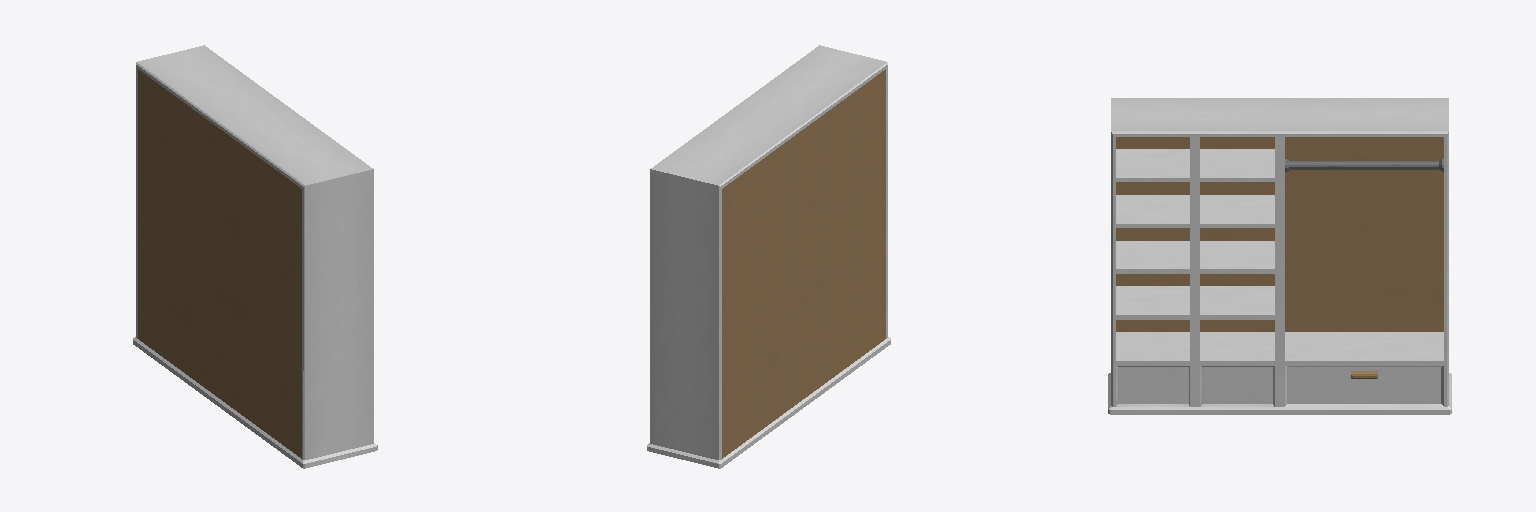
3 renders of one model, left to right at view 1: azimuth 30°, elevation 25°; view 2: azimuth 150°, elevation 25°; view 3: azimuth 270°, elevation 25°, orthographic.
Visible parts, largest first — view 1: Cube.013, Cube.011; view 2: Cube.013, Cube.011; view 3: Cube.011, Cube.013, Cylinder.003.
Part boxes in pixels (bbox=[...]): Cube.013: bbox=[138, 69, 301, 458]; Cube.011: bbox=[133, 45, 377, 468]; Cube.013: bbox=[722, 69, 885, 458]; Cube.011: bbox=[647, 45, 890, 468]; Cube.011: bbox=[1108, 98, 1451, 414]; Cube.013: bbox=[1116, 137, 1443, 378]; Cylinder.003: bbox=[1285, 159, 1443, 171].
Size of the model in its own units: 1.27 by 4.45 by 4.92.
1 materials, 1 textured.